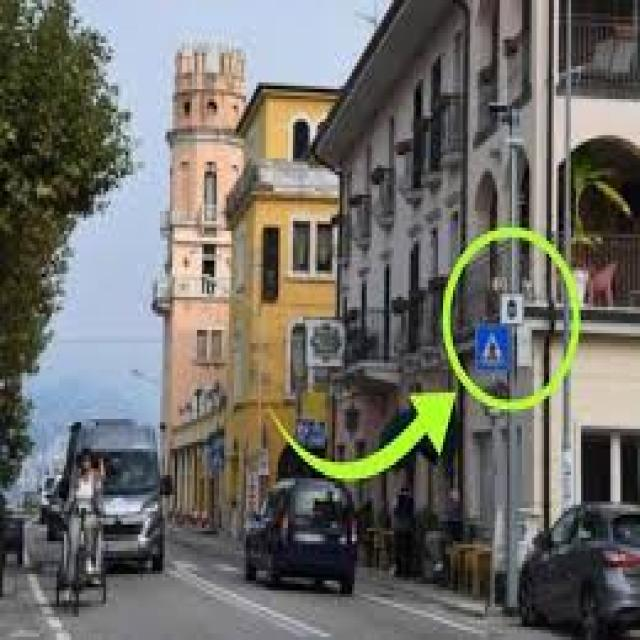Pedestrian crosswalk: (476, 323, 509, 372)
